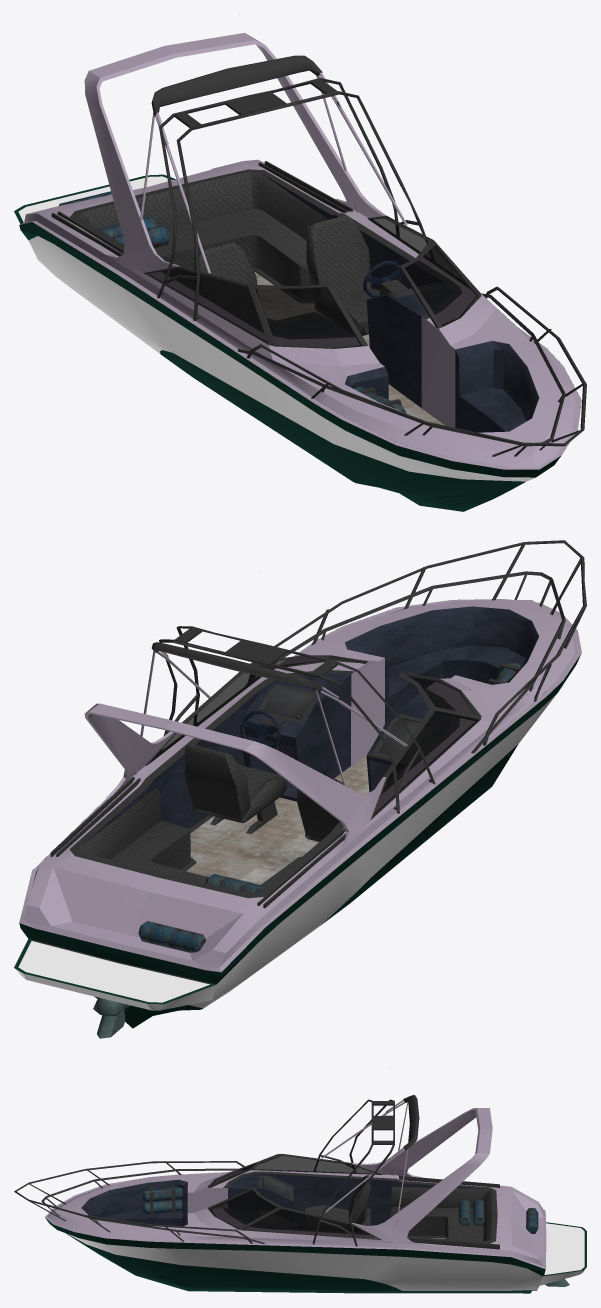
File: Boat_2.FBX
3 renders of one model, top to bottom at view 1: azimuth 30°, elevation 25°; view 2: azimuth 150°, elevation 25°; view 3: azimuth 270°, elevation 25°, orthographic. The views are drawn at different scales.
Visible parts, largest first — view 1: Body; view 2: Body, Steer; view 3: Body.
Boxes of the visible parts, left/top/right/bottom form: Body: left=14, top=14, right=586, bottom=511; Body: left=14, top=540, right=586, bottom=1038; Steer: left=241, top=710, right=280, bottom=748; Body: left=14, top=1095, right=586, bottom=1293.
Size of the model in its own units: 80.29 by 117 by 273.
Materials: 5 (1 with a texture image).
